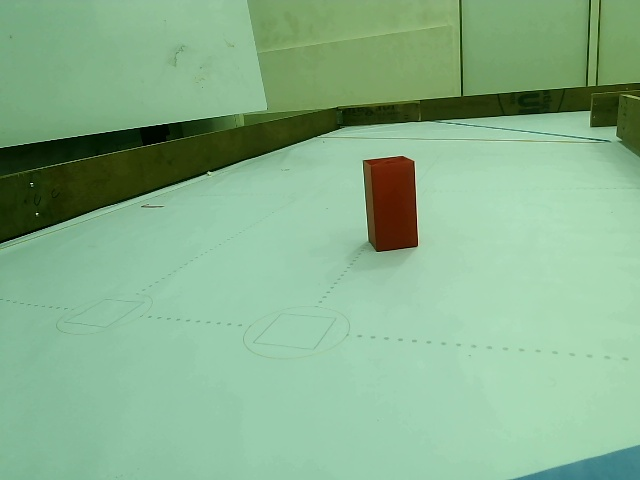red: (362, 160, 421, 249)
